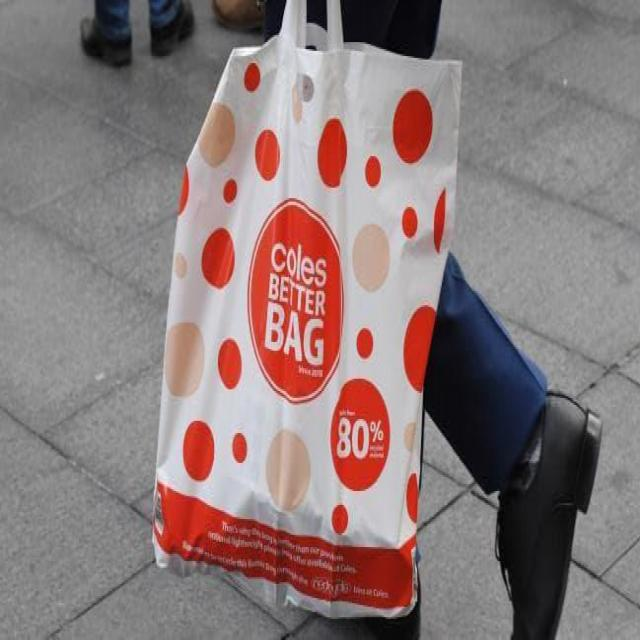plastic_bag: (143, 1, 468, 640)
